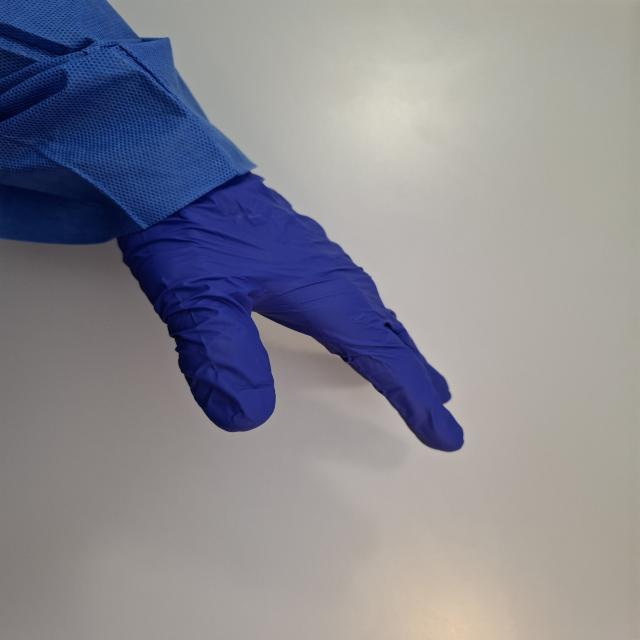glove_on: (105, 159, 466, 454)
